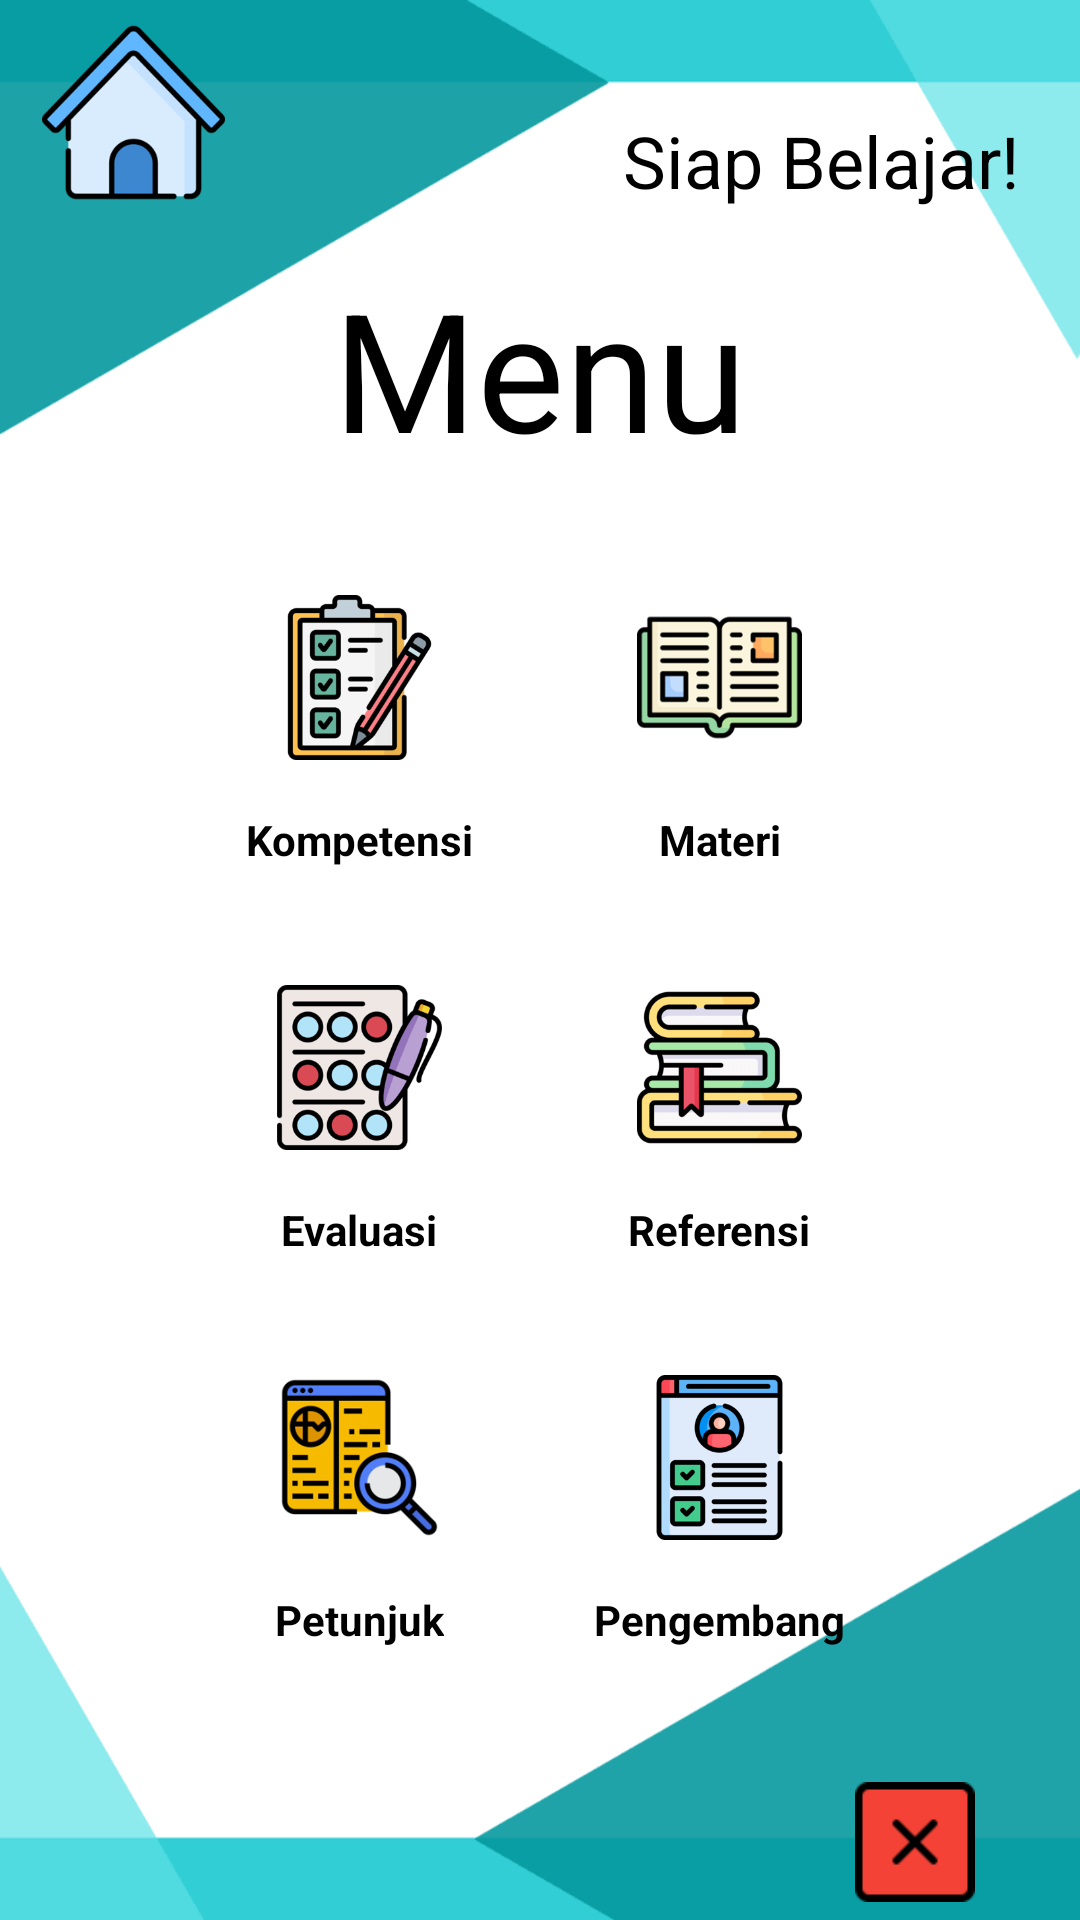

Screen size 1080px x 1920px. Icon name, then its box in pixels as (x1, y1, x2, y2):
home: (42, 25, 225, 200)
